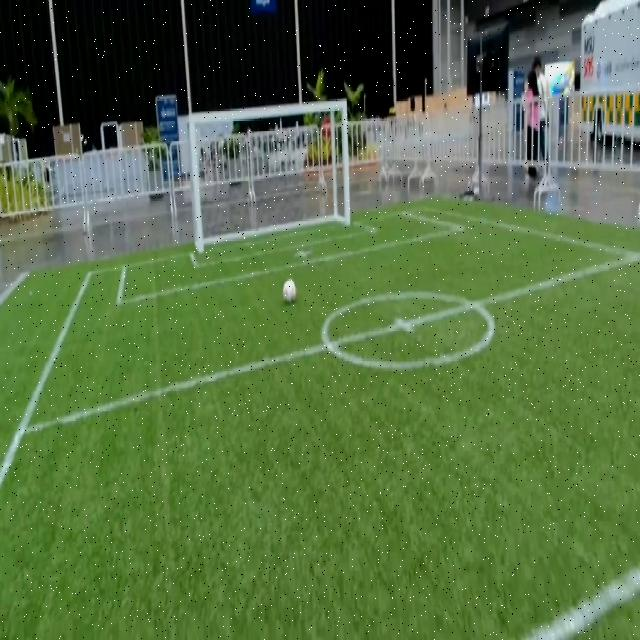ball: (283, 278, 296, 301)
goalpost: (193, 221, 206, 257), (341, 197, 353, 231)
